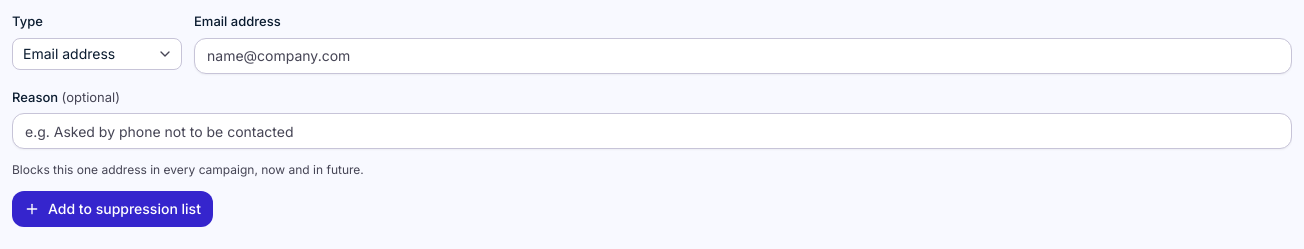
Scenario: SuppressionAddForm › asks for an address when a domain is typed as an email
In the field labelled "Email address": {"x": 743, "y": 56} [194, 38, 1292, 74], type "acme.com"
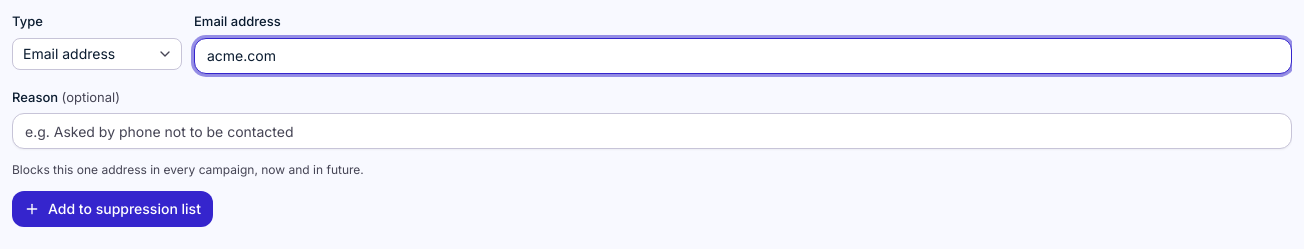
Click the button "Add to suppression list": {"x": 112, "y": 209} [12, 191, 213, 227]
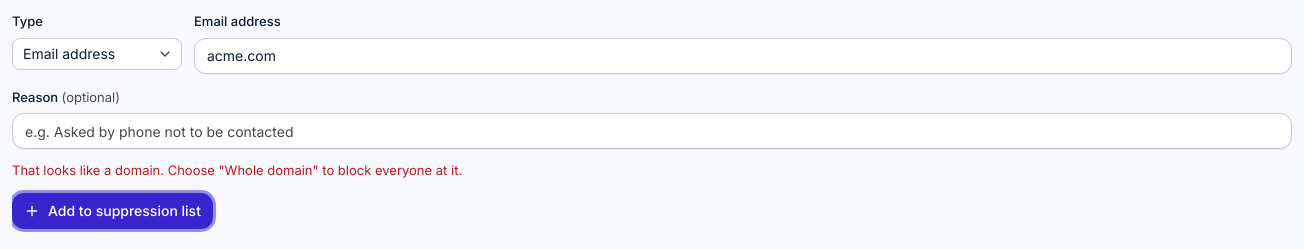
Result: the message shows "looks like a domain" at [12, 162, 462, 178]
